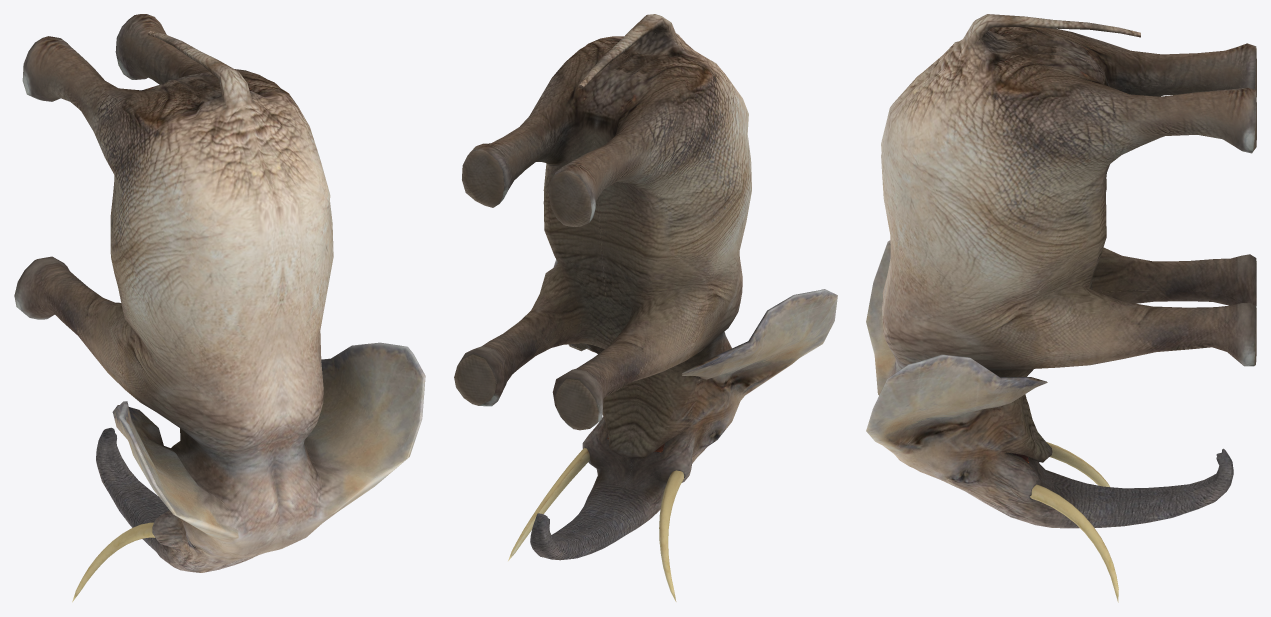
File: elephant.glb
The picture shows the model from 3 angles, left to right: view 1: azimuth 30°, elevation 25°; view 2: azimuth 150°, elevation 25°; view 3: azimuth 270°, elevation 25°; orthographic projection. The views are drawn at different scales.
Parts seen in each view (by area): view 1: Object_2; view 2: Object_2; view 3: Object_2.
Part boxes in pixels (left/top/right/bottom): Object_2: left=14, top=14, right=425, bottom=602; Object_2: left=454, top=14, right=837, bottom=601; Object_2: left=866, top=14, right=1256, bottom=602.
Size of the model in its own units: 3.41 by 6.28 by 4.08.
Materials: 1 (1 with a texture image).
